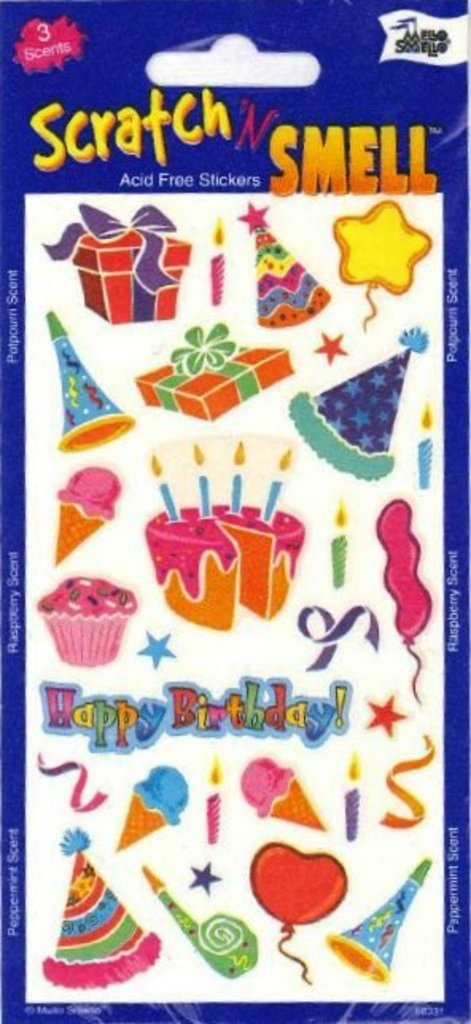cake: (145, 500, 304, 634)
